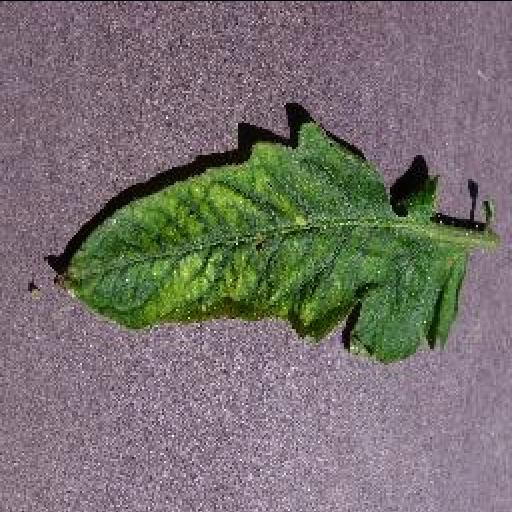disease_tomato: (51, 122, 469, 366)
